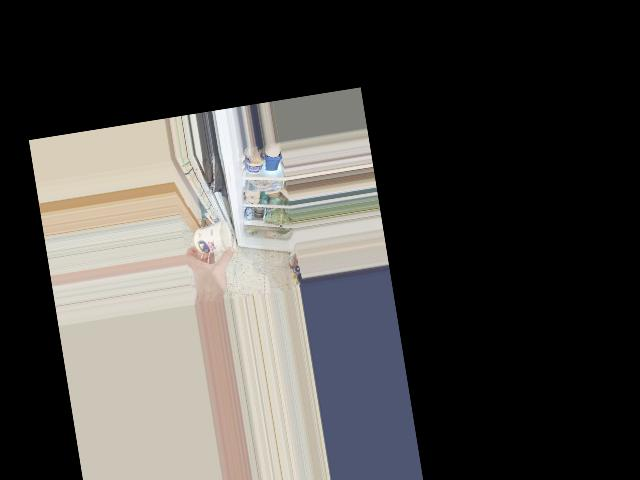cotage: (190, 219, 233, 258)
